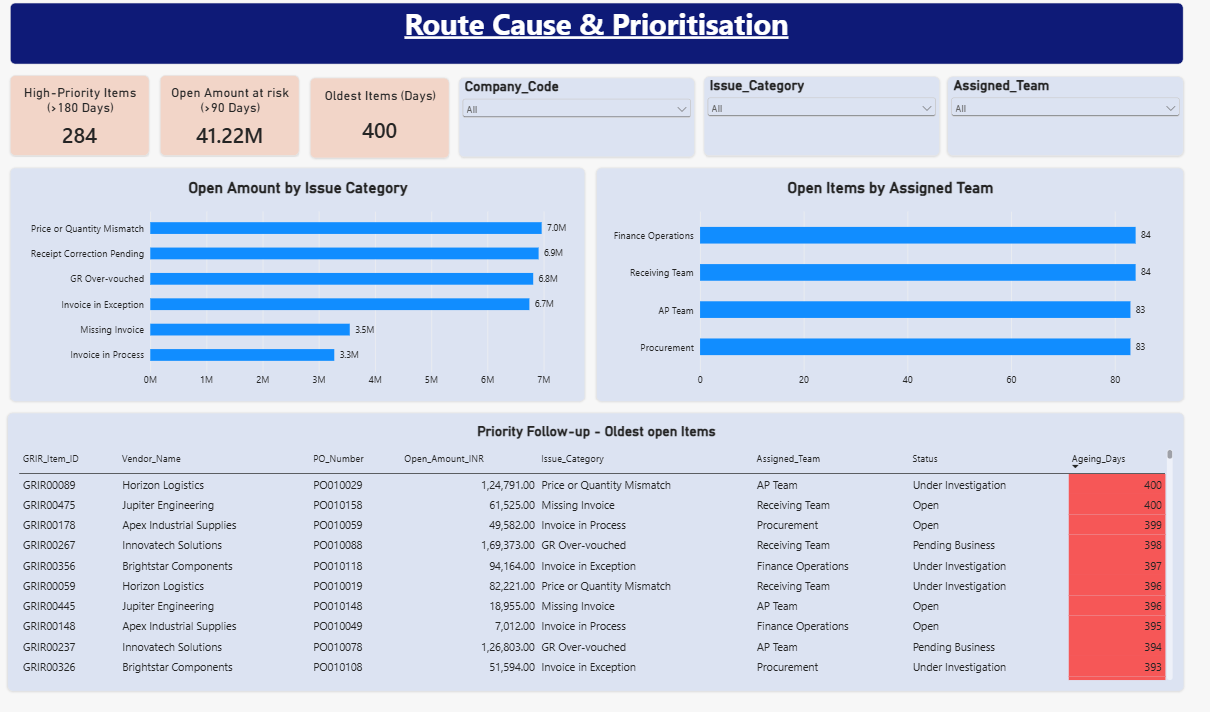

The dashboard page shown, as its layout file describes it:
{"tool":"powerbi","page":{"name":"Route Cause & Prioritization","canvas":[1920,1080],"ordinal":2},"visuals":[{"type":"slicer","fields":{"Values":["GRIR_Data.Company_Code"]},"box":[746.2,124.7,349.8,117.2],"z":0},{"type":"slicer","fields":{"Values":["GRIR_Data.Issue_Category"]},"box":[1109.1,122.8,349.8,117.2],"z":1},{"type":"slicer","fields":{"Values":["GRIR_Data.Assigned_Team"]},"box":[1470.1,122.8,349.8,117.2],"z":2},{"type":"clusteredBarChart","title":"Open Amount by Issue Category","fields":{"Category":["GRIR_Data.Issue_Category"],"Y":["Sum(GRIR_Data.Open_Amount_INR)"]},"box":[81.5,257.4,851.9,346.3],"z":3},{"type":"clusteredBarChart","title":"Open Items by Assigned Team","fields":{"Category":["GRIR_Data.Assigned_Team"],"Y":["CountNonNull(GRIR_Data.Item_ID)"]},"box":[950,257.4,870.4,346.3],"z":4},{"type":"tableEx","title":"Priority Follow-up - Oldest open Items","fields":{"Values":["GRIR_Data.GRIR_Item_ID","GRIR_Data.Vendor_Name","GRIR_Data.PO_Number","Sum(GRIR_Data.Open_Amount_INR)","GRIR_Data.Issue_Category","GRIR_Data.Assigned_Team","GRIR_Data.Status","GRIR_Data.Ageing_Days"]},"box":[77.8,620.4,1743.6,413.1],"z":5},{"type":"card","title":"High-Priority Items (>180 Days)","fields":{"Values":["GRIR_Data.High Priority Items"]},"box":[81.9,121,206.6,119.1],"z":6},{"type":"card","title":"Open Amount at risk (>90 Days)","fields":{"Values":["GRIR_Data.Open Amount at Risk"]},"box":[303.3,121,206.6,119.1],"z":7},{"type":"card","title":"Oldest Items (Days)","fields":{"Values":["GRIR_Data.Oldest Item Days"]},"box":[526.6,124.7,206.6,119.1],"z":8},{"type":"textbox","box":[81.9,13,1738,91.2],"z":9}]}

Visuals, with their boxes on the page's 1920x1080 design canvas (x1, y1, x2, y2). These are canvas units, not pixel positions in the 1210x712 screenshot, which may show the page scaled, cropped or inside an application window:
slicer - GRIR_Data.Company_Code: <box>746,125,1096,242</box>
slicer - GRIR_Data.Issue_Category: <box>1109,123,1459,240</box>
slicer - GRIR_Data.Assigned_Team: <box>1470,123,1820,240</box>
"Open Amount by Issue Category" clusteredBarChart: <box>82,257,933,604</box>
"Open Items by Assigned Team" clusteredBarChart: <box>950,257,1820,604</box>
"Priority Follow-up - Oldest open Items" tableEx: <box>78,620,1821,1034</box>
"High-Priority Items (>180 Days)" card: <box>82,121,288,240</box>
"Open Amount at risk (>90 Days)" card: <box>303,121,510,240</box>
"Oldest Items (Days)" card: <box>527,125,733,244</box>
textbox: <box>82,13,1820,104</box>
